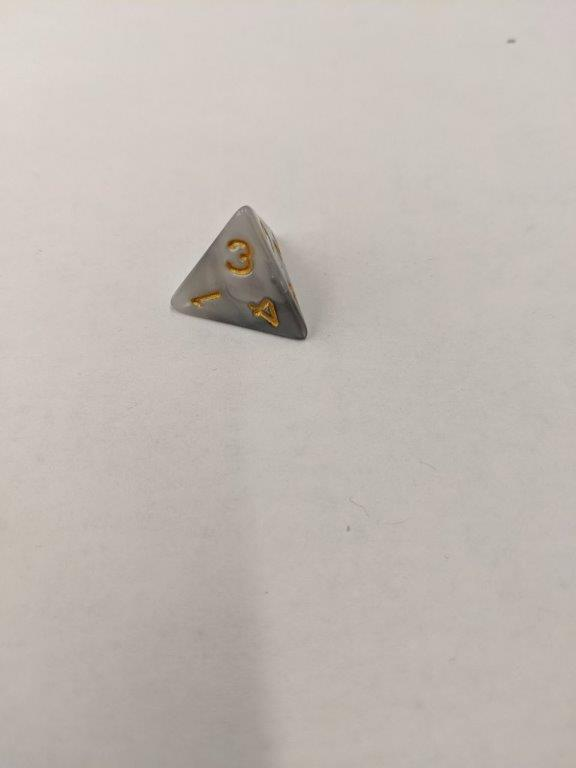d4-3: (166, 203, 313, 348)
